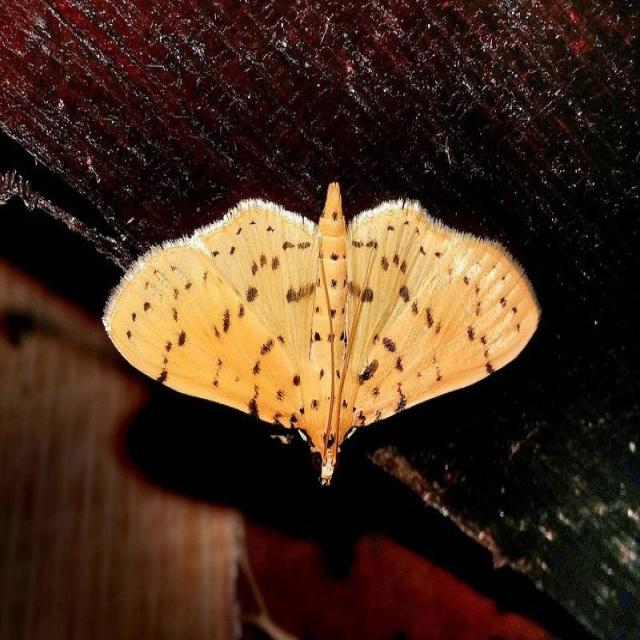peach borer: (97, 183, 545, 491)
